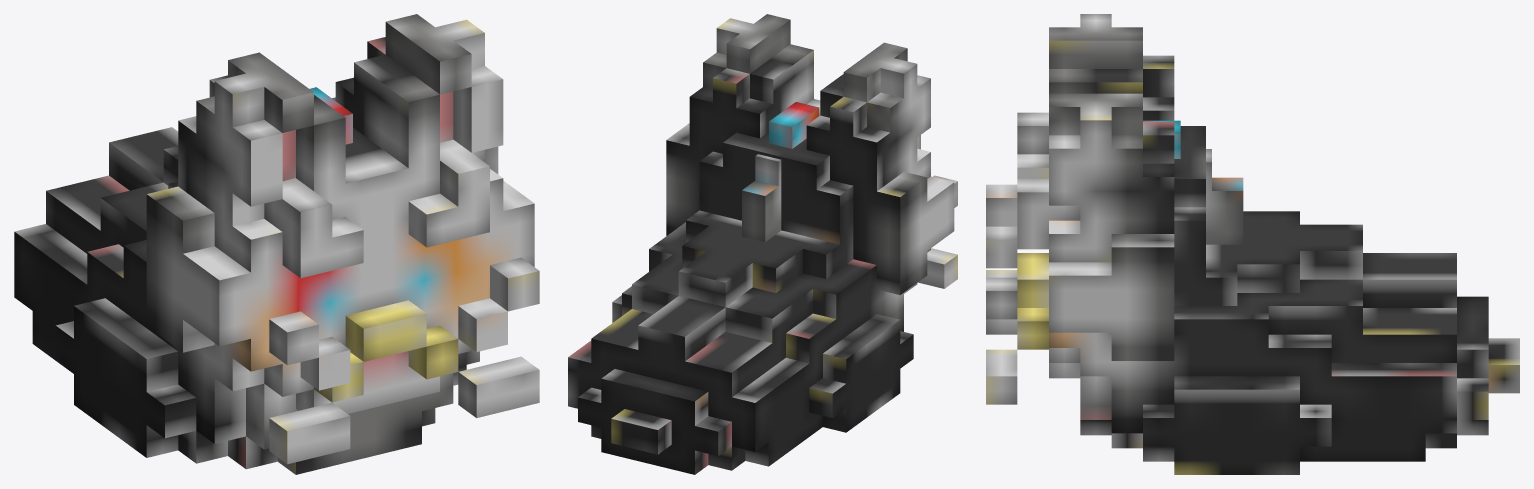
The model's file is skin_19.fbx.
3 views of the same model, side by side, from view 1: azimuth 30°, elevation 25°; view 2: azimuth 150°, elevation 25°; view 3: azimuth 270°, elevation 25° (orthographic). The views are drawn at different scales.
Parts seen in each view (by area): view 1: skin_19-5, skin_19-0; view 2: skin_19-5, skin_19-0; view 3: skin_19-5, skin_19-0.
Boxes of the visible parts, box(x1,y1,x2,y2) form: skin_19-5: box(14, 14, 539, 474); skin_19-0: box(310, 87, 352, 144); skin_19-5: box(568, 14, 957, 474); skin_19-0: box(742, 102, 819, 241); skin_19-5: box(986, 14, 1519, 474); skin_19-0: box(1143, 120, 1243, 244).
Bounding box in the file's own units: 100 × 121 × 170.
